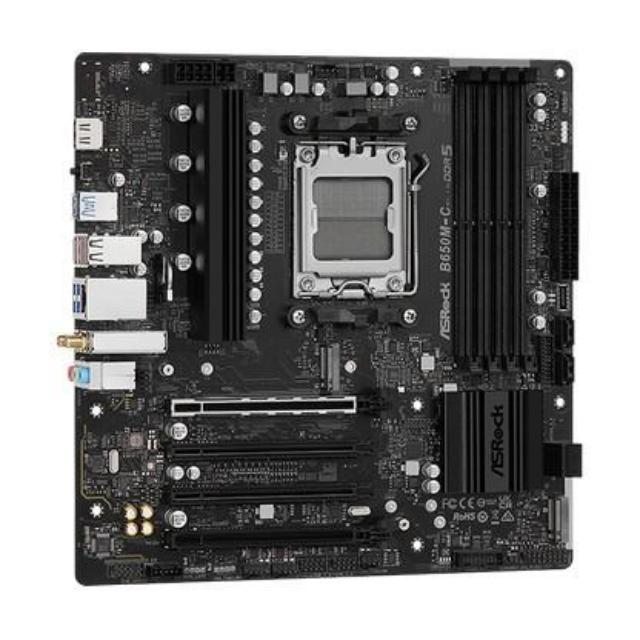Mainboard: (54, 43, 592, 592)
